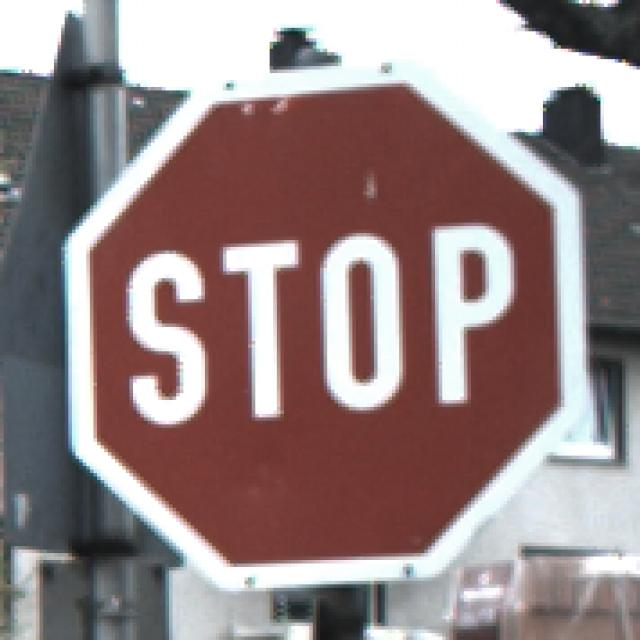STOP: (59, 57, 584, 589)
